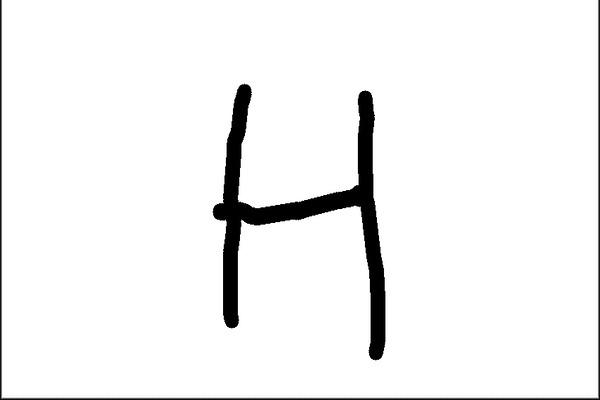H: (208, 75, 396, 363)
